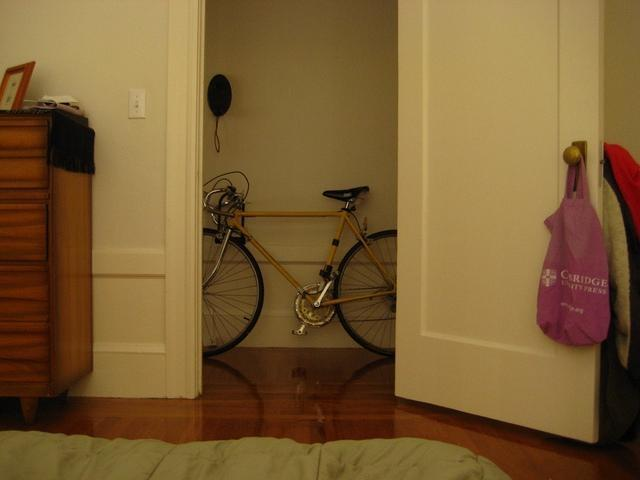bicycle: (202, 170, 398, 358)
